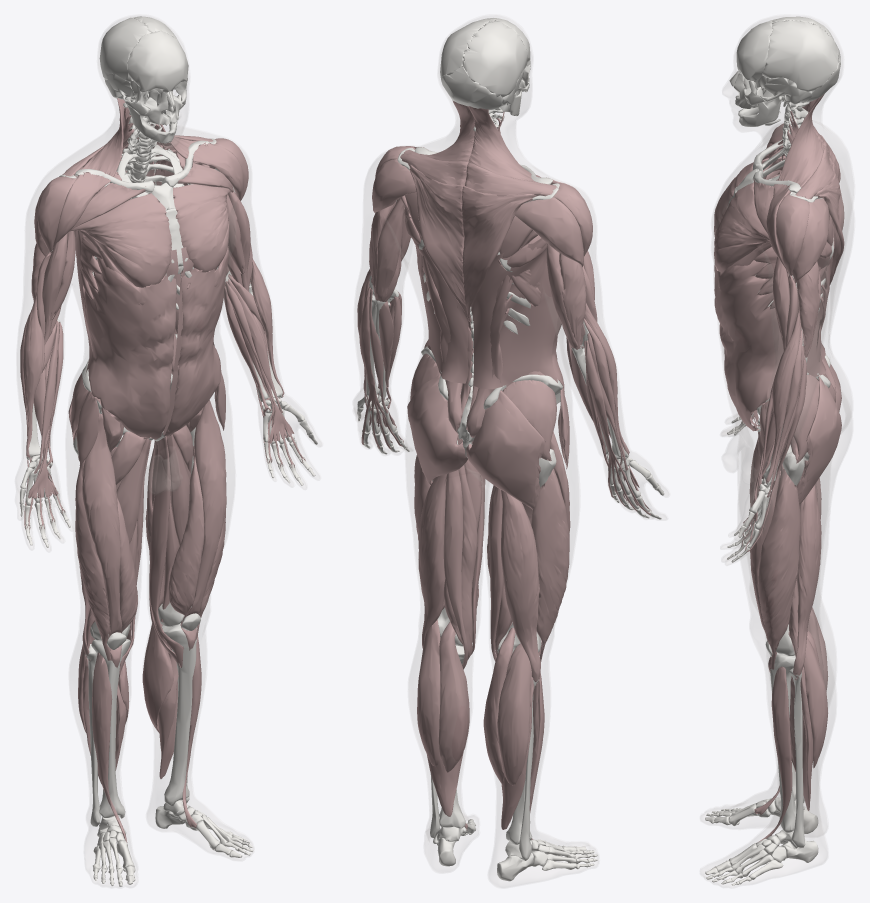
The model's file is body.glb.
3 renders of one model, left to right at view 1: azimuth 30°, elevation 25°; view 2: azimuth 150°, elevation 25°; view 3: azimuth 270°, elevation 25°, orthographic. The views are drawn at different scales.
Visible parts, largest first — view 1: skin, m__obliques__R, skeleton__legs, skeleton__skull, m__obliques__L, m__adductors__L, m__pec_sternal__R, skeleton__arms, m__rectus_femoris__R, m__rectus_femoris__L, m__forearm_flexors__L, m__pec_sternal__L (+29 smaller); view 2: skin, skeleton__legs, m__lats__R, skeleton__skull, m__glute_max__R, m__biceps_femoris__R, skeleton__arms, m__vastus_lateralis__R, m__traps_lower__L, m__traps_lower__R, m__glute_max__L, m__gastroc_lateral__R (+38 smaller); view 3: skin, skeleton__skull, skeleton__legs, m__obliques__L, m__vastus_lateralis__L, m__biceps_femoris__L, m__pec_sternal__L, m__glute_max__L, skeleton__arms, m__tibialis_anterior__L, m__forearm_extensors__L, m__traps_upper__L (+24 smaller).
Boxes of the visible parts, box(x1,y1,x2,y2) form: skin: box(15, 15, 321, 887); m__obliques__R: box(84, 257, 176, 439); skeleton__legs: box(73, 334, 253, 886); skeleton__skull: box(99, 16, 214, 871); m__obliques__L: box(164, 246, 229, 436); m__adductors__L: box(149, 425, 193, 667); m__pec_sternal__R: box(69, 193, 171, 287); skeleton__arms: box(19, 138, 317, 547); m__rectus_femoris__R: box(82, 412, 122, 667); m__rectus_femoris__L: box(180, 400, 226, 650); m__forearm_flexors__L: box(223, 274, 305, 467); m__pec_sternal__L: box(173, 184, 230, 272); skin: box(353, 15, 668, 887); skeleton__legs: box(421, 346, 597, 881); m__lats__R: box(471, 238, 557, 389); skeleton__skull: box(440, 18, 561, 856); m__glute_max__R: box(466, 390, 545, 509); m__biceps_femoris__R: box(501, 490, 540, 685); skeleton__arms: box(357, 147, 664, 519); m__vastus_lateralis__R: box(531, 468, 569, 662); m__traps_lower__L: box(408, 164, 471, 321); m__traps_lower__R: box(461, 185, 538, 321); m__glute_max__L: box(407, 375, 467, 484); m__gastroc_lateral__R: box(497, 643, 531, 785); skin: box(700, 15, 853, 887); skeleton__skull: box(729, 16, 840, 825); skeleton__legs: box(705, 354, 830, 885); m__obliques__L: box(714, 260, 779, 431); m__vastus_lateralis__L: box(758, 464, 800, 669); m__biceps_femoris__L: box(788, 484, 821, 680); m__pec_sternal__L: box(714, 182, 769, 272); m__glute_max__L: box(796, 376, 841, 504); skeleton__arms: box(727, 139, 833, 562); m__tibialis_anterior__L: box(758, 666, 792, 841); m__forearm_extensors__L: box(745, 330, 806, 552); m__traps_upper__L: box(778, 93, 824, 187).
Size of the model in its own units: 0.703 by 1.81 by 0.3077.
